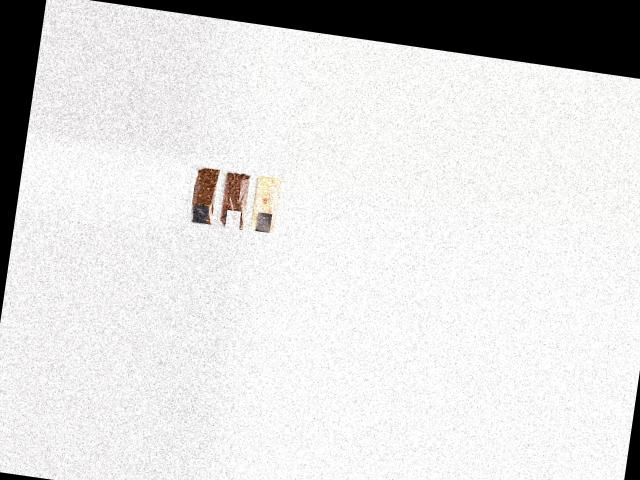chocolate: (180, 159, 223, 224)
